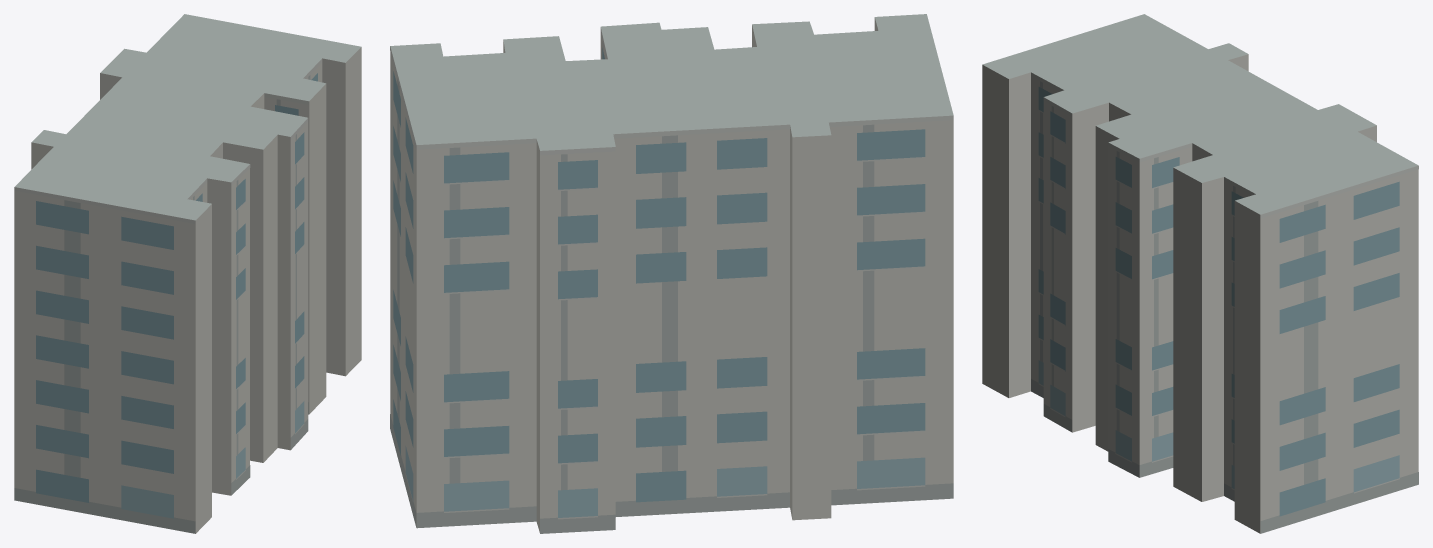
File: survey-upis-32525735.glb
3 renders of one model, left to right at view 1: azimuth 30°, elevation 25°; view 2: azimuth 150°, elevation 25°; view 3: azimuth 270°, elevation 25°, orthographic. The views are drawn at different scales.
Parts seen in each view (by area): view 1: survey-upis-32525735.tmp; view 2: survey-upis-32525735.tmp; view 3: survey-upis-32525735.tmp.
Part boxes in pixels (x1,y1,x2,y2): survey-upis-32525735.tmp: (14, 14, 361, 533); survey-upis-32525735.tmp: (390, 14, 953, 533); survey-upis-32525735.tmp: (982, 14, 1418, 533).
Bounding box in the file's own units: 26.86 × 19.9 × 24.68.
